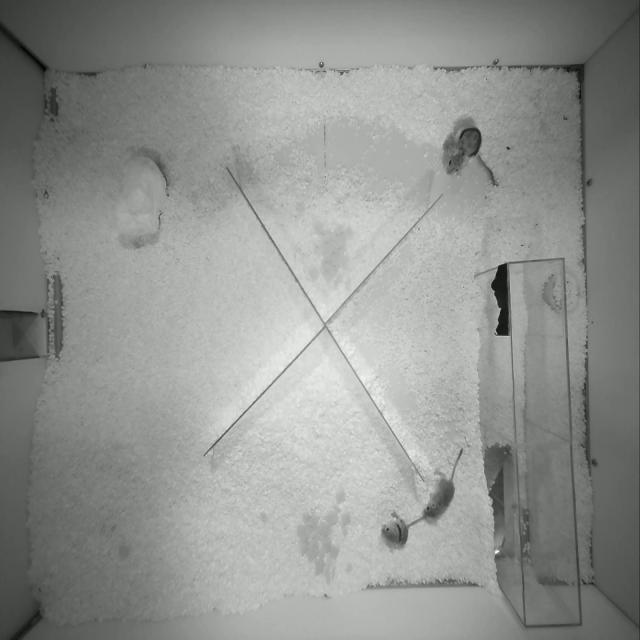adult_front: (446, 127, 496, 186)
pup_fluffy: (423, 448, 463, 518)
pup_h_stripe: (382, 511, 423, 545)
